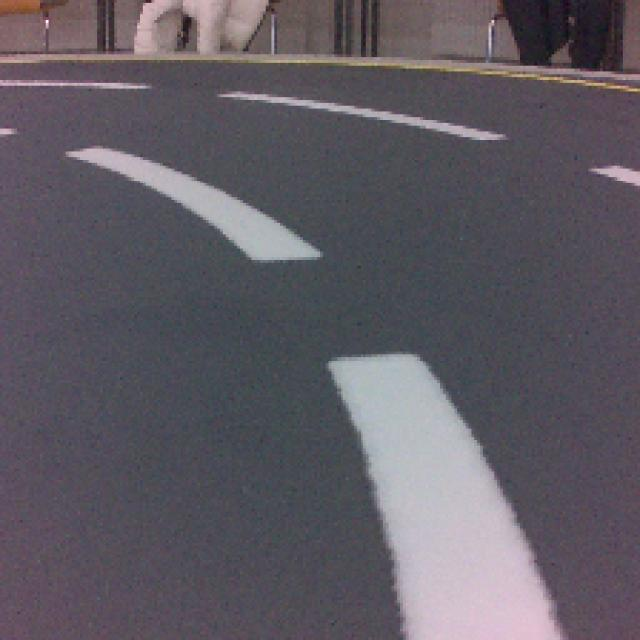Pedestrian crosswalk: (332, 359, 566, 640)
